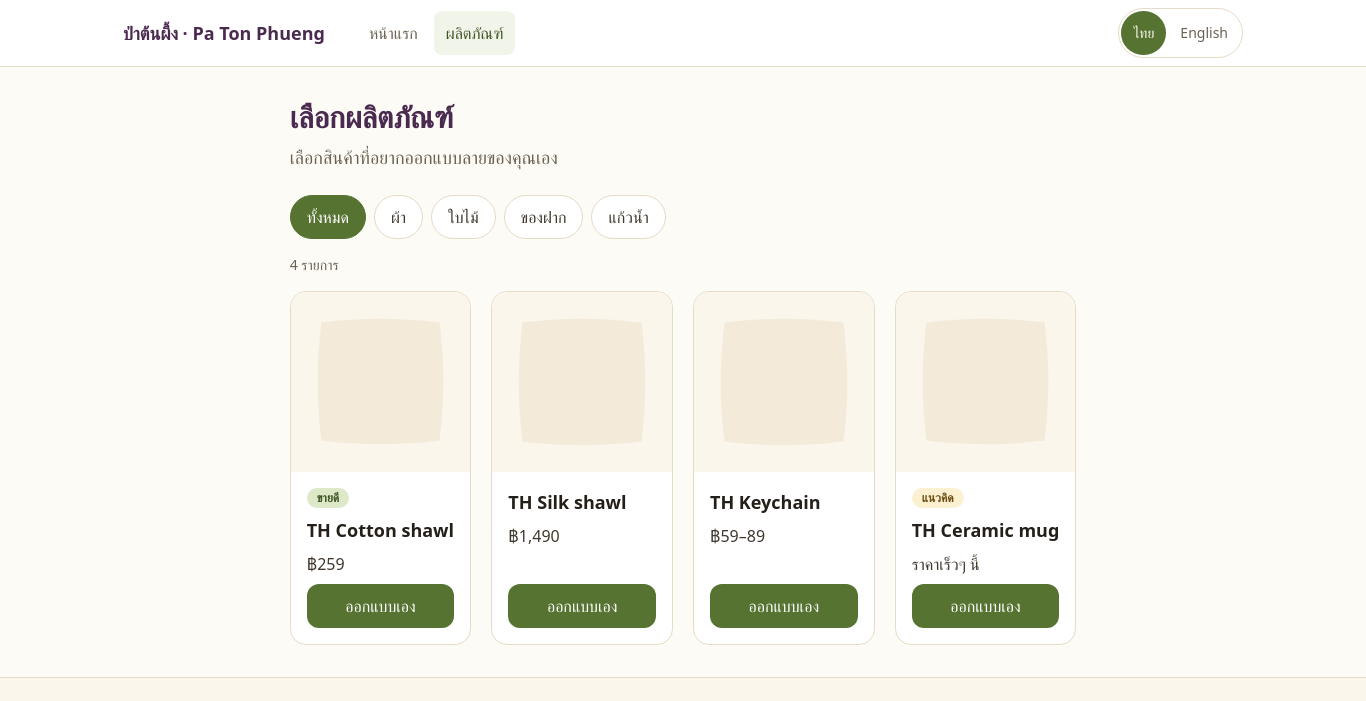
Test: the picker in the app shell › switches product names with the language toggle
The image size is (1366, 701).
Expected: the heading "TH Cotton shawl" is shown, [307, 516, 454, 544]
Click the button "English" at x=1204, y=33, box [1168, 11, 1240, 55]
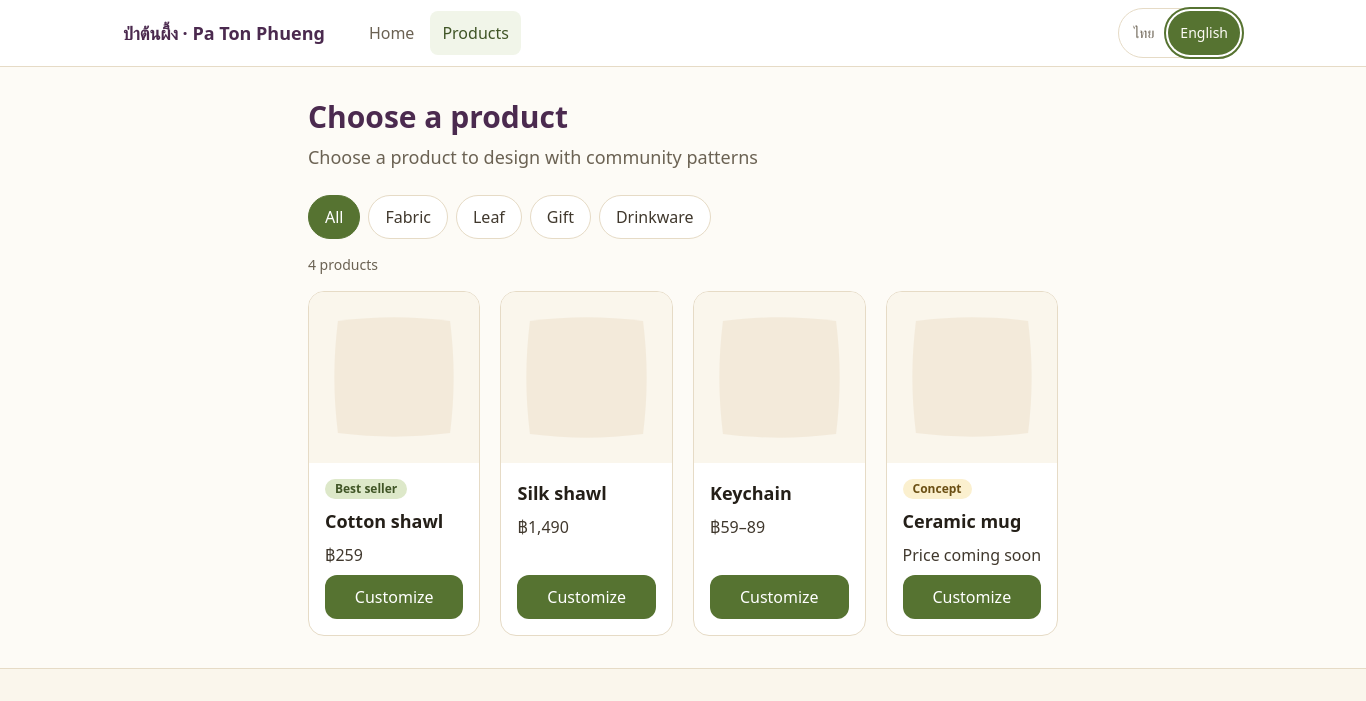
Result: the heading "TH Cotton shawl" is gone
Result: the text "Choose a product to design with community patterns" is shown at [308, 145, 758, 169]
Result: the list item "Best seller" is shown at [325, 478, 407, 498]
